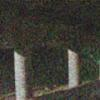chimneys: (13, 49, 34, 99), (67, 49, 83, 88)
